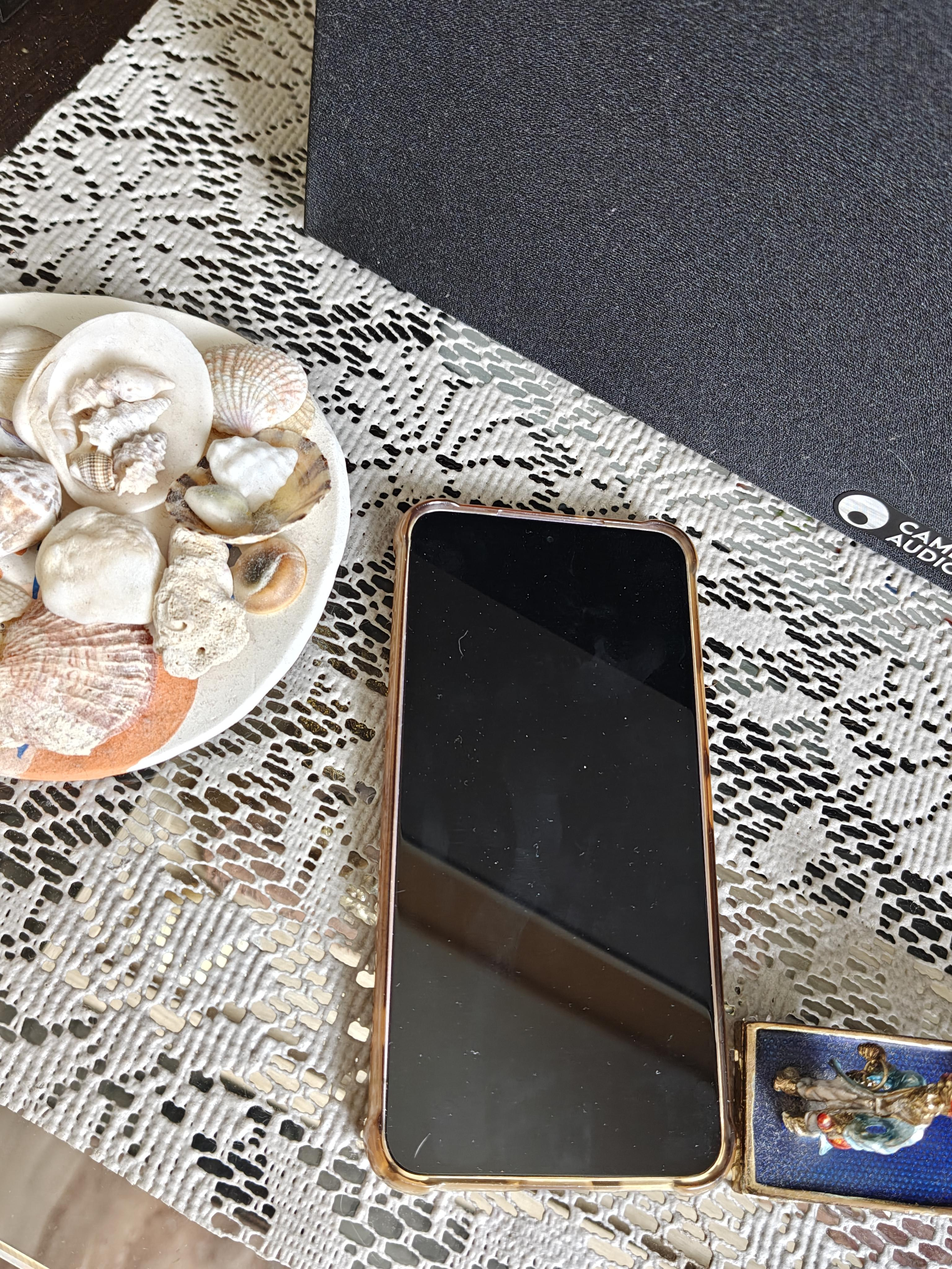smartphone: (364, 499, 737, 1198)
